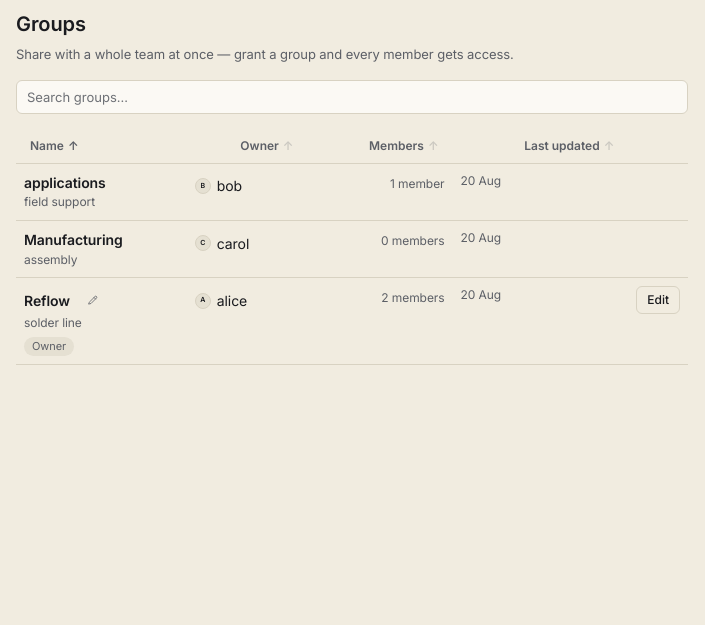
GroupsPage as a table › still opens the editor from a row
This screenshot has width=705, height=625.
expect the table is shown: met, box [16,130,688,365]
Click the button with aria-label "Edit Reflow".
click(658, 300)  # box [636,286,680,314]
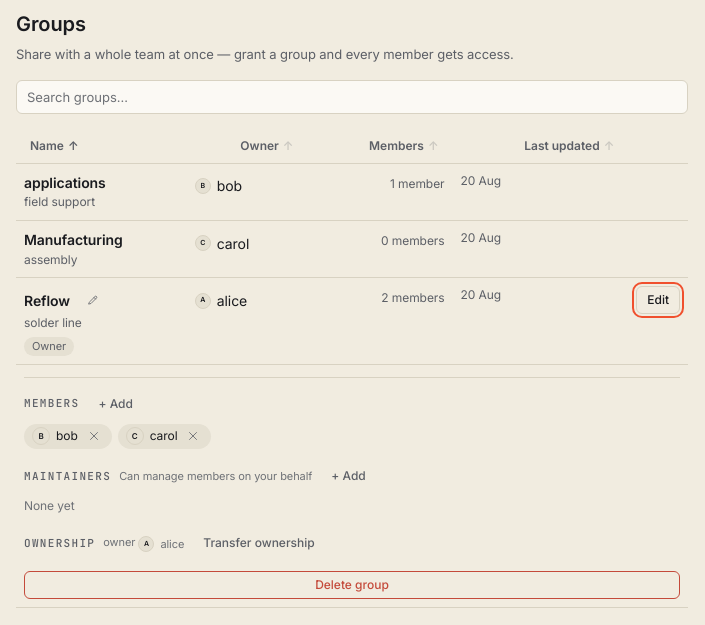
expect the button with test id "group-members-add" is shown: met, box [88,390,144,418]
